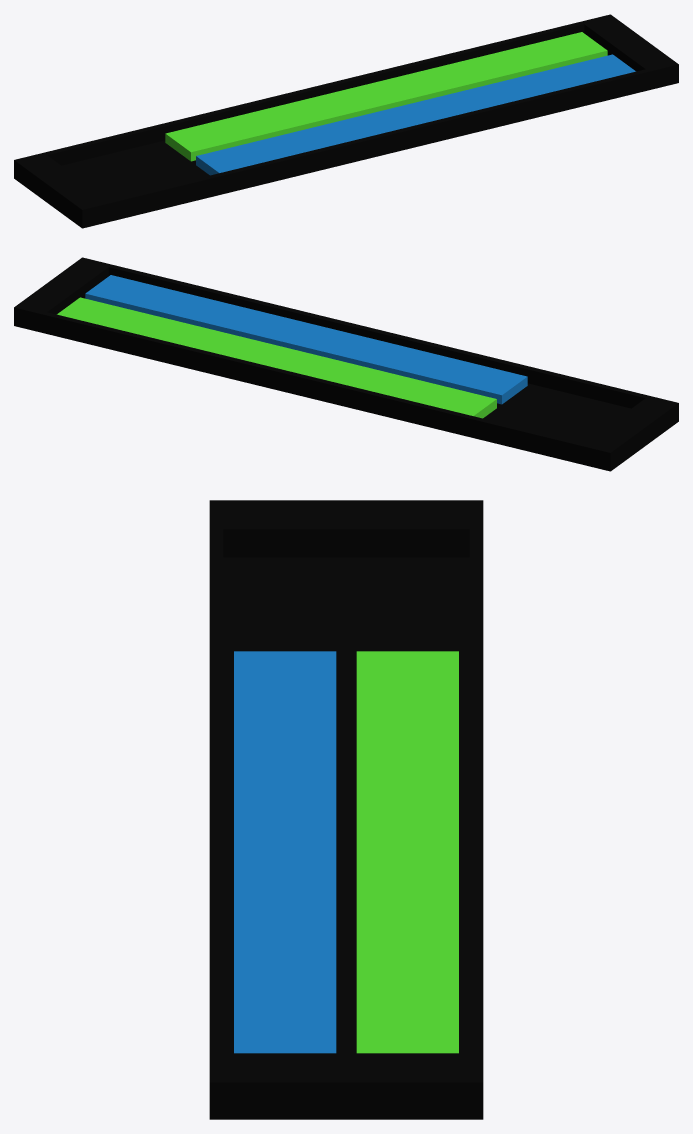
File: BARS.fbx
3 views of the same model, one above another, from view 1: azimuth 30°, elevation 25°; view 2: azimuth 150°, elevation 25°; view 3: azimuth 270°, elevation 25° (orthographic). The views are drawn at different scales.
Visible parts, largest first — view 1: BarsFrame, HealthBar, ShieldsBar; view 2: BarsFrame, ShieldsBar, HealthBar; view 3: BarsFrame, HealthBar, ShieldsBar.
Part boxes in pixels (x1,y1,x2,y2): BarsFrame: (14,14,678,228); HealthBar: (165,32,607,161); ShieldsBar: (196,54,635,175); BarsFrame: (14,257,678,471); ShieldsBar: (85,275,527,404); HealthBar: (57,297,496,418); BarsFrame: (209,500,483,1119); HealthBar: (356,651,458,1053); ShieldsBar: (234,651,336,1053).
Size of the model in its own units: 1480 by 44 by 294.
